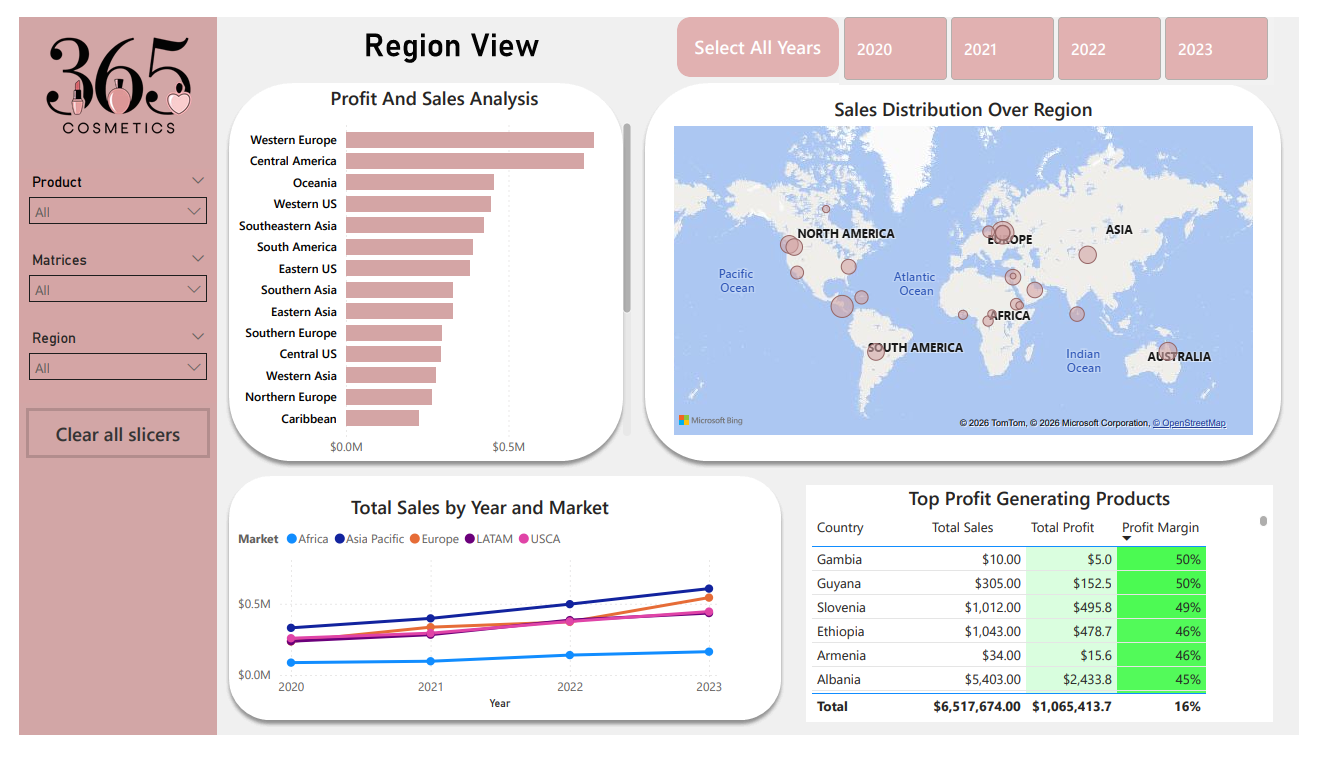

This screenshot's page, from the dashboard's own definition file:
{"tool":"powerbi","page":{"name":"Region Analysis","canvas":[1280,720],"ordinal":1},"visuals":[{"type":"clusteredBarChart","title":"Profit  And Sales Analysis","fields":{"Category":["data.Region"],"Y":["KPI_Measures.Total Sales"]},"box":[213.7,68,403,379.7],"z":4000},{"type":"map","title":"Sales Distribution Over Region","fields":{"Size":["KPI_Measures.Total Sales"],"Category":["data.Region"]},"box":[649.7,78.7,589.5,344.8],"z":5000},{"type":"lineChart","fields":{"Y":["KPI_Measures.Total Sales"],"Series":["data.Market"],"Category":["Dim_Date.Order Date.Variation.Date Hierarchy.Year"]},"box":[213.9,477.3,494.2,219.5],"z":6000},{"type":"tableEx","title":"Top Profit Generating Products","fields":{"Values":["data.Country","KPI_Measures.Total Sales","KPI_Measures.Total Profit","KPI_Measures.Profit Margin"]},"box":[786.9,468.3,467.2,236.4],"z":7000},{"type":"slicer","fields":{"Values":["data.Product"]},"box":[0,152.5,198.1,77.7],"z":8000},{"type":"slicer","fields":{"Values":["Parameter.Parameter"]},"box":[0,230.2,198.1,77.7],"z":9000},{"type":"slicer","fields":{"Values":["data.Region"]},"box":[0,307.9,198.1,77.7],"z":10000},{"type":"actionButton","box":[6.8,391.4,184.5,49.5],"z":11000},{"type":"advancedSlicerVisual","fields":{"Values":["Dim_Date.Order Date.Variation.Date Hierarchy.Year"]},"box":[819.7,0,435.1,68],"z":12000},{"type":"actionButton","box":[658.5,0,161.2,60.2],"z":13000}]}

Visuals, with their boxes in screenshot pixels (x1, y1, x2, y2), scaled from the page's 1280x720 canvas onto the 1321x759 screenshot:
"Profit  And Sales Analysis" clusteredBarChart: box=[221, 72, 636, 472]
"Sales Distribution Over Region" map: box=[671, 83, 1279, 446]
lineChart - KPI_Measures.Total Sales x data.Market: box=[221, 503, 731, 735]
"Top Profit Generating Products" tableEx: box=[812, 494, 1294, 743]
slicer - data.Product: box=[0, 161, 204, 243]
slicer - Parameter.Parameter: box=[0, 243, 204, 325]
slicer - data.Region: box=[0, 325, 204, 406]
actionButton: box=[7, 413, 197, 465]
advancedSlicerVisual - Dim_Date.Order Date.Variation.Date Hierarchy.Year: box=[846, 0, 1295, 72]
actionButton: box=[680, 0, 846, 63]
